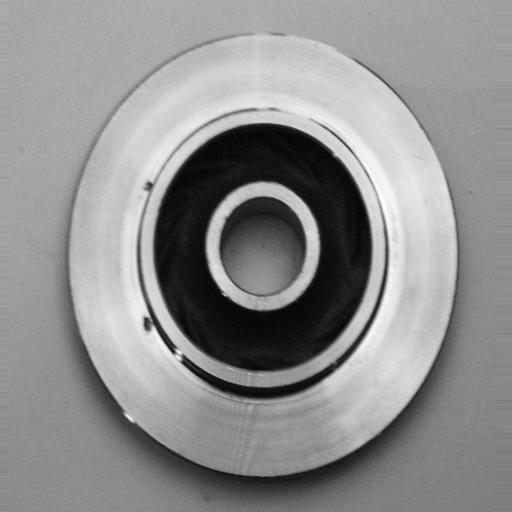crack: (132, 171, 163, 202), (135, 304, 162, 339)
scratch: (245, 92, 337, 125)
unpolished_casting: (64, 31, 462, 481)
